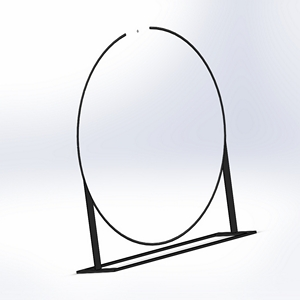circle: (72, 24, 258, 274)
